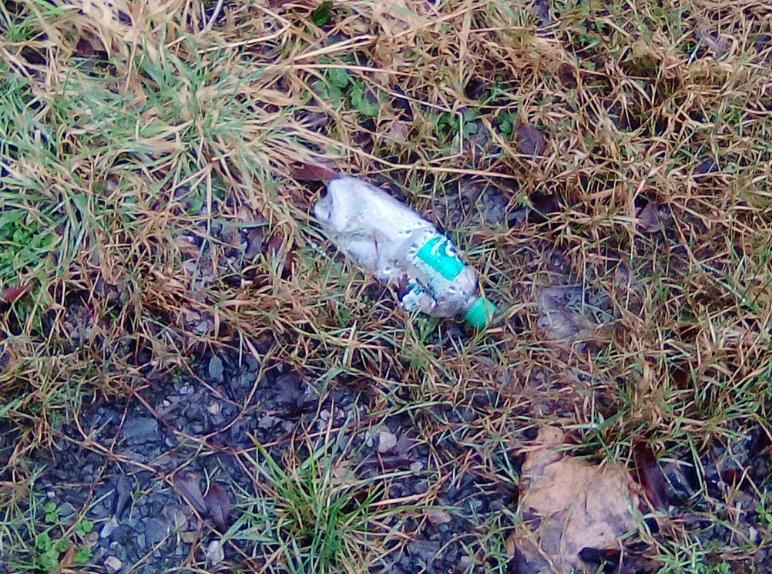bottle: (310, 160, 504, 351)
